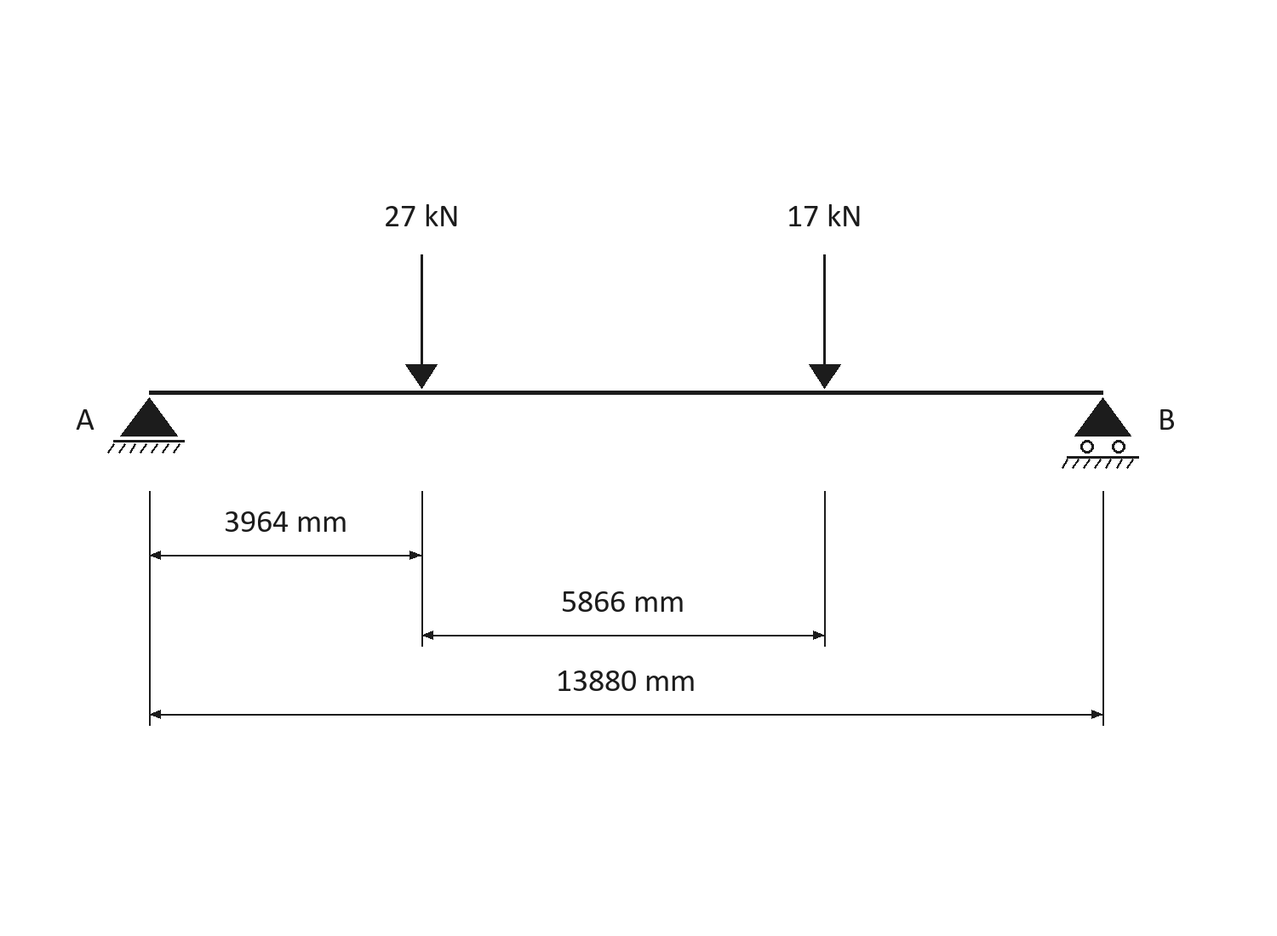pin_support: (107, 397, 185, 454)
point_load: (405, 254, 438, 389), (809, 254, 841, 389)
roller_support: (1062, 397, 1139, 469)
